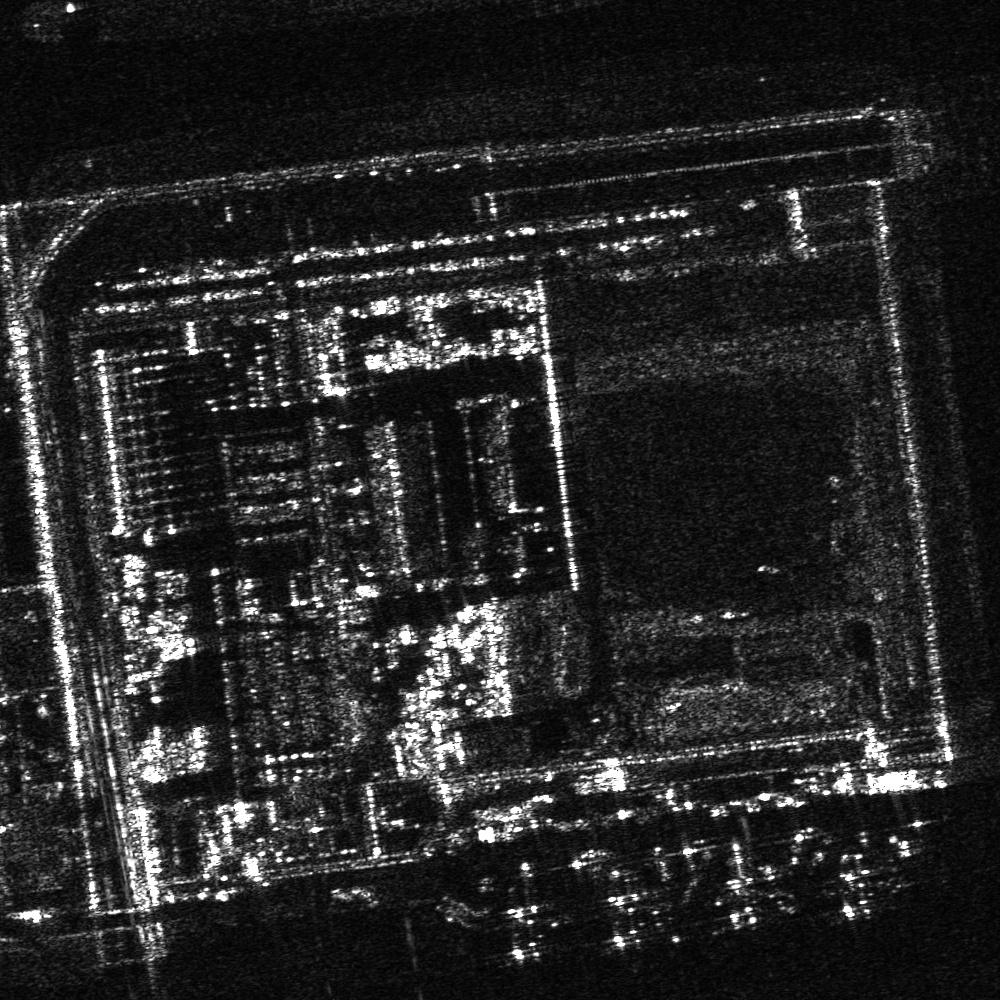Boeing787: (708, 844, 792, 938), (488, 862, 566, 960), (589, 857, 661, 944), (826, 838, 891, 921)
